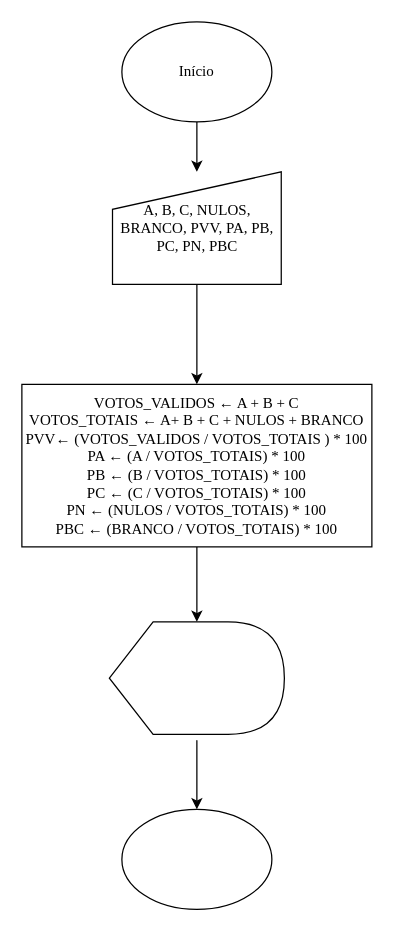
Image size: 394x931. Some labels were removed from this diagram. Each missing label, with the centre of its shape:
FIM: the point at 196,858
VOTOS_TOTAIS, PVV, PA, PB, PC, PN, PBC: the point at 196,677
